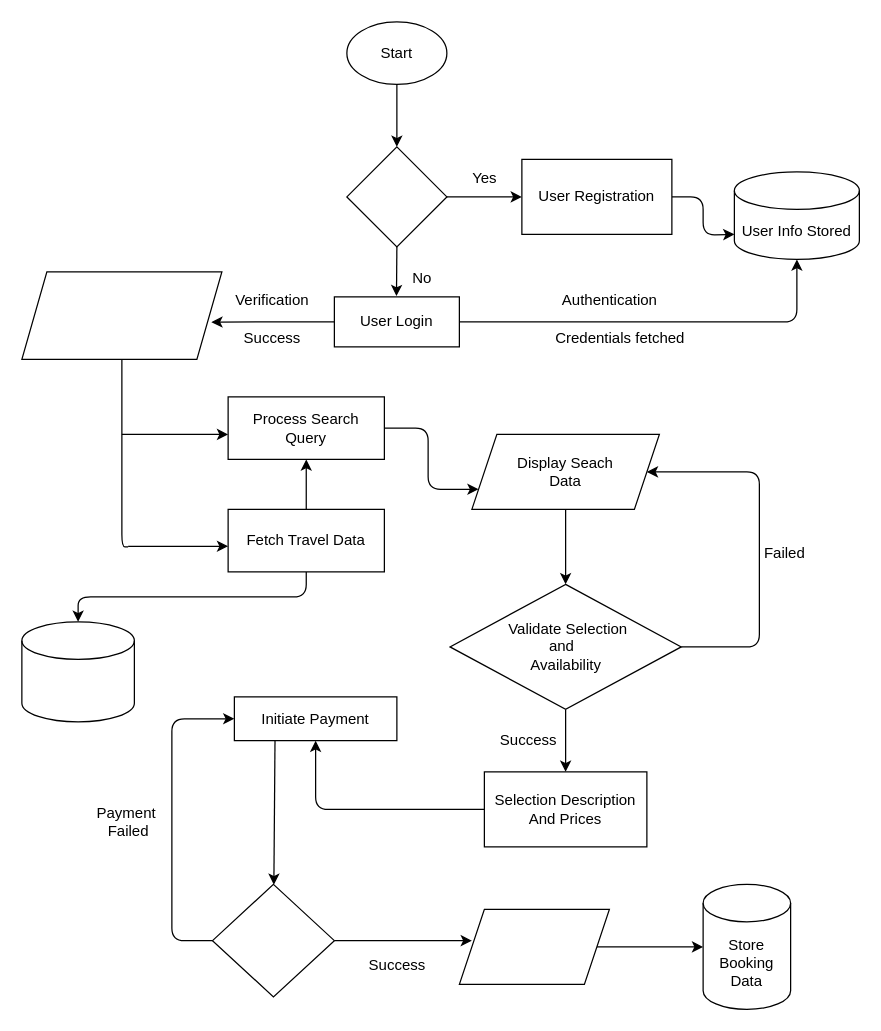
This 881x1031 diagram has some shape labels left out. Here are the shapes that lost their labels. From the top down, the box of each, then its label:
(346, 146, 447, 247): New User
(21, 271, 222, 359): Choose Search Criteria (Flights, Tours, Hotels
(21, 621, 134, 722): Scraped Info Pushed
(211, 883, 334, 997): Payment Gateway
(458, 908, 609, 984): Confirm Booking
